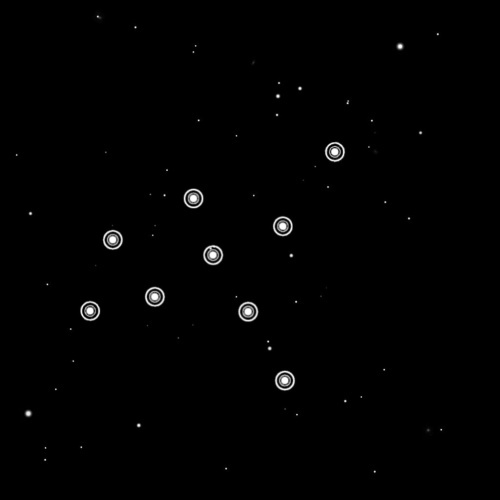cygnus: (77, 131, 352, 396)
